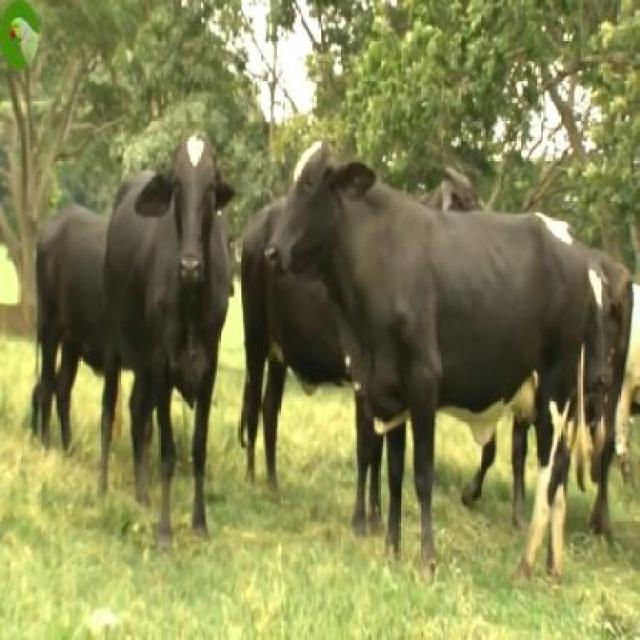Cow: (263, 140, 589, 585), (97, 129, 232, 554)
